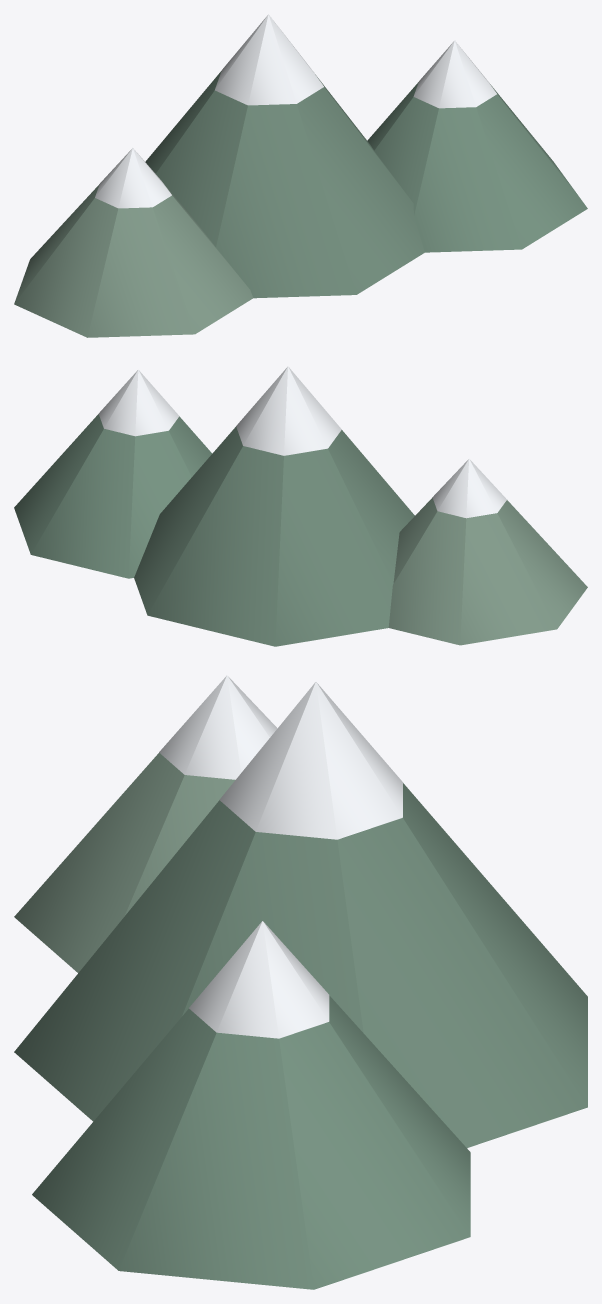
The model's file is montagne.glb.
The picture shows the model from 3 angles, top to bottom: view 1: azimuth 30°, elevation 25°; view 2: azimuth 150°, elevation 25°; view 3: azimuth 270°, elevation 25°; orthographic projection. The views are drawn at different scales.
Bounding box in the file's own units: 123 × 46.05 × 64.63.
